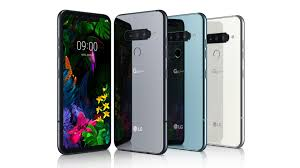lg: (111, 7, 170, 157)
